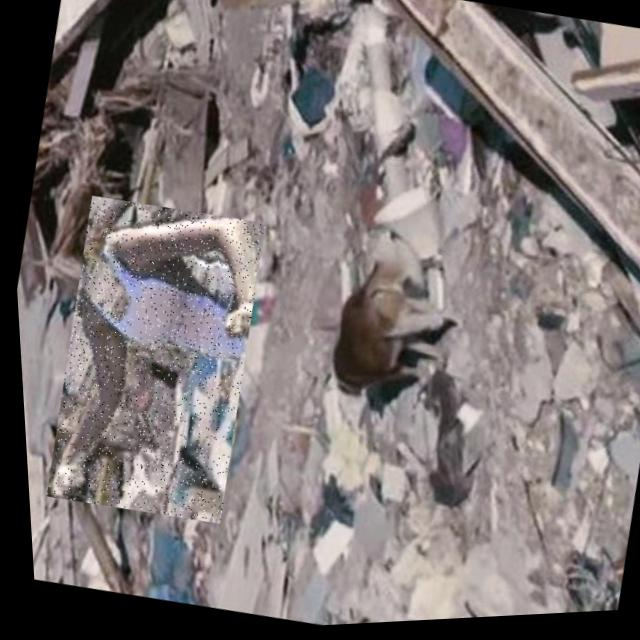Person in Rubble: (26, 188, 276, 532)
